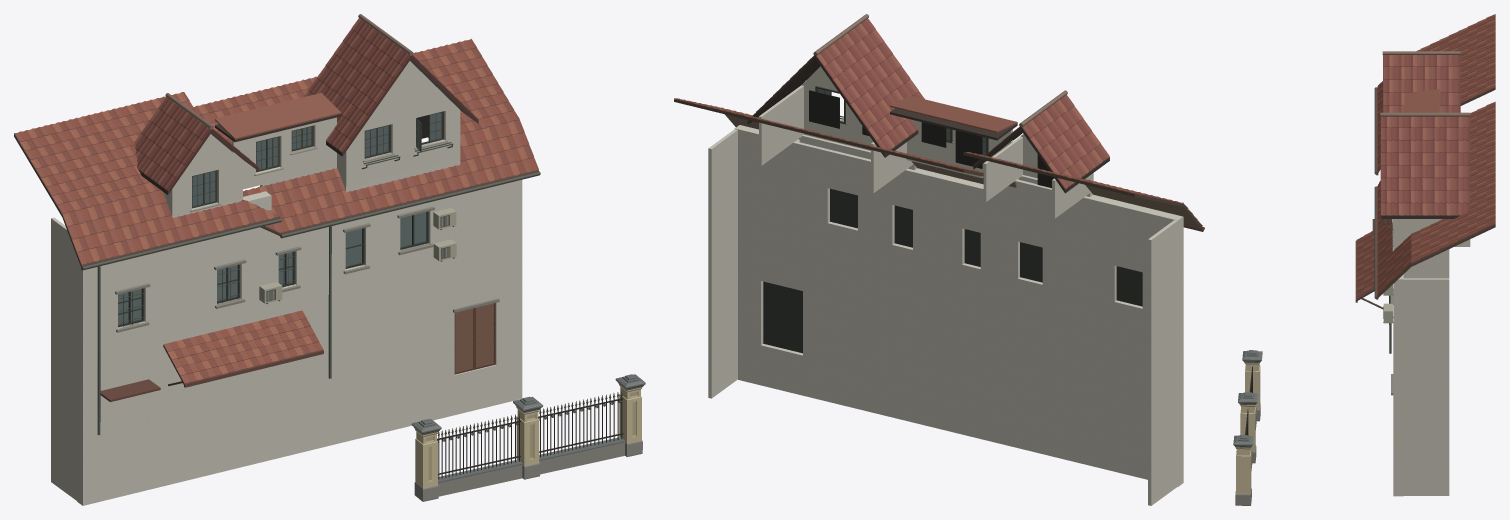
File: huangpu-xiangshan-9-residential-dormers-raw.glb
3 renders of one model, left to right at view 1: azimuth 30°, elevation 25°; view 2: azimuth 150°, elevation 25°; view 3: azimuth 270°, elevation 25°, orthographic. The views are drawn at different scales.
Visible parts, largest first — view 1: 香山路9号住宅临街立面与双山墙老虎窗; view 2: 香山路9号住宅临街立面与双山墙老虎窗; view 3: 香山路9号住宅临街立面与双山墙老虎窗.
Part boxes in pixels (box(x1,y1,x2,y2)): 香山路9号住宅临街立面与双山墙老虎窗: box(14, 14, 645, 505); 香山路9号住宅临街立面与双山墙老虎窗: box(674, 14, 1204, 505); 香山路9号住宅临街立面与双山墙老虎窗: box(1233, 14, 1495, 505).
Bounding box in the file's own units: 17.39 × 13.13 × 9.37.
Materials: 39 (1 with a texture image).
